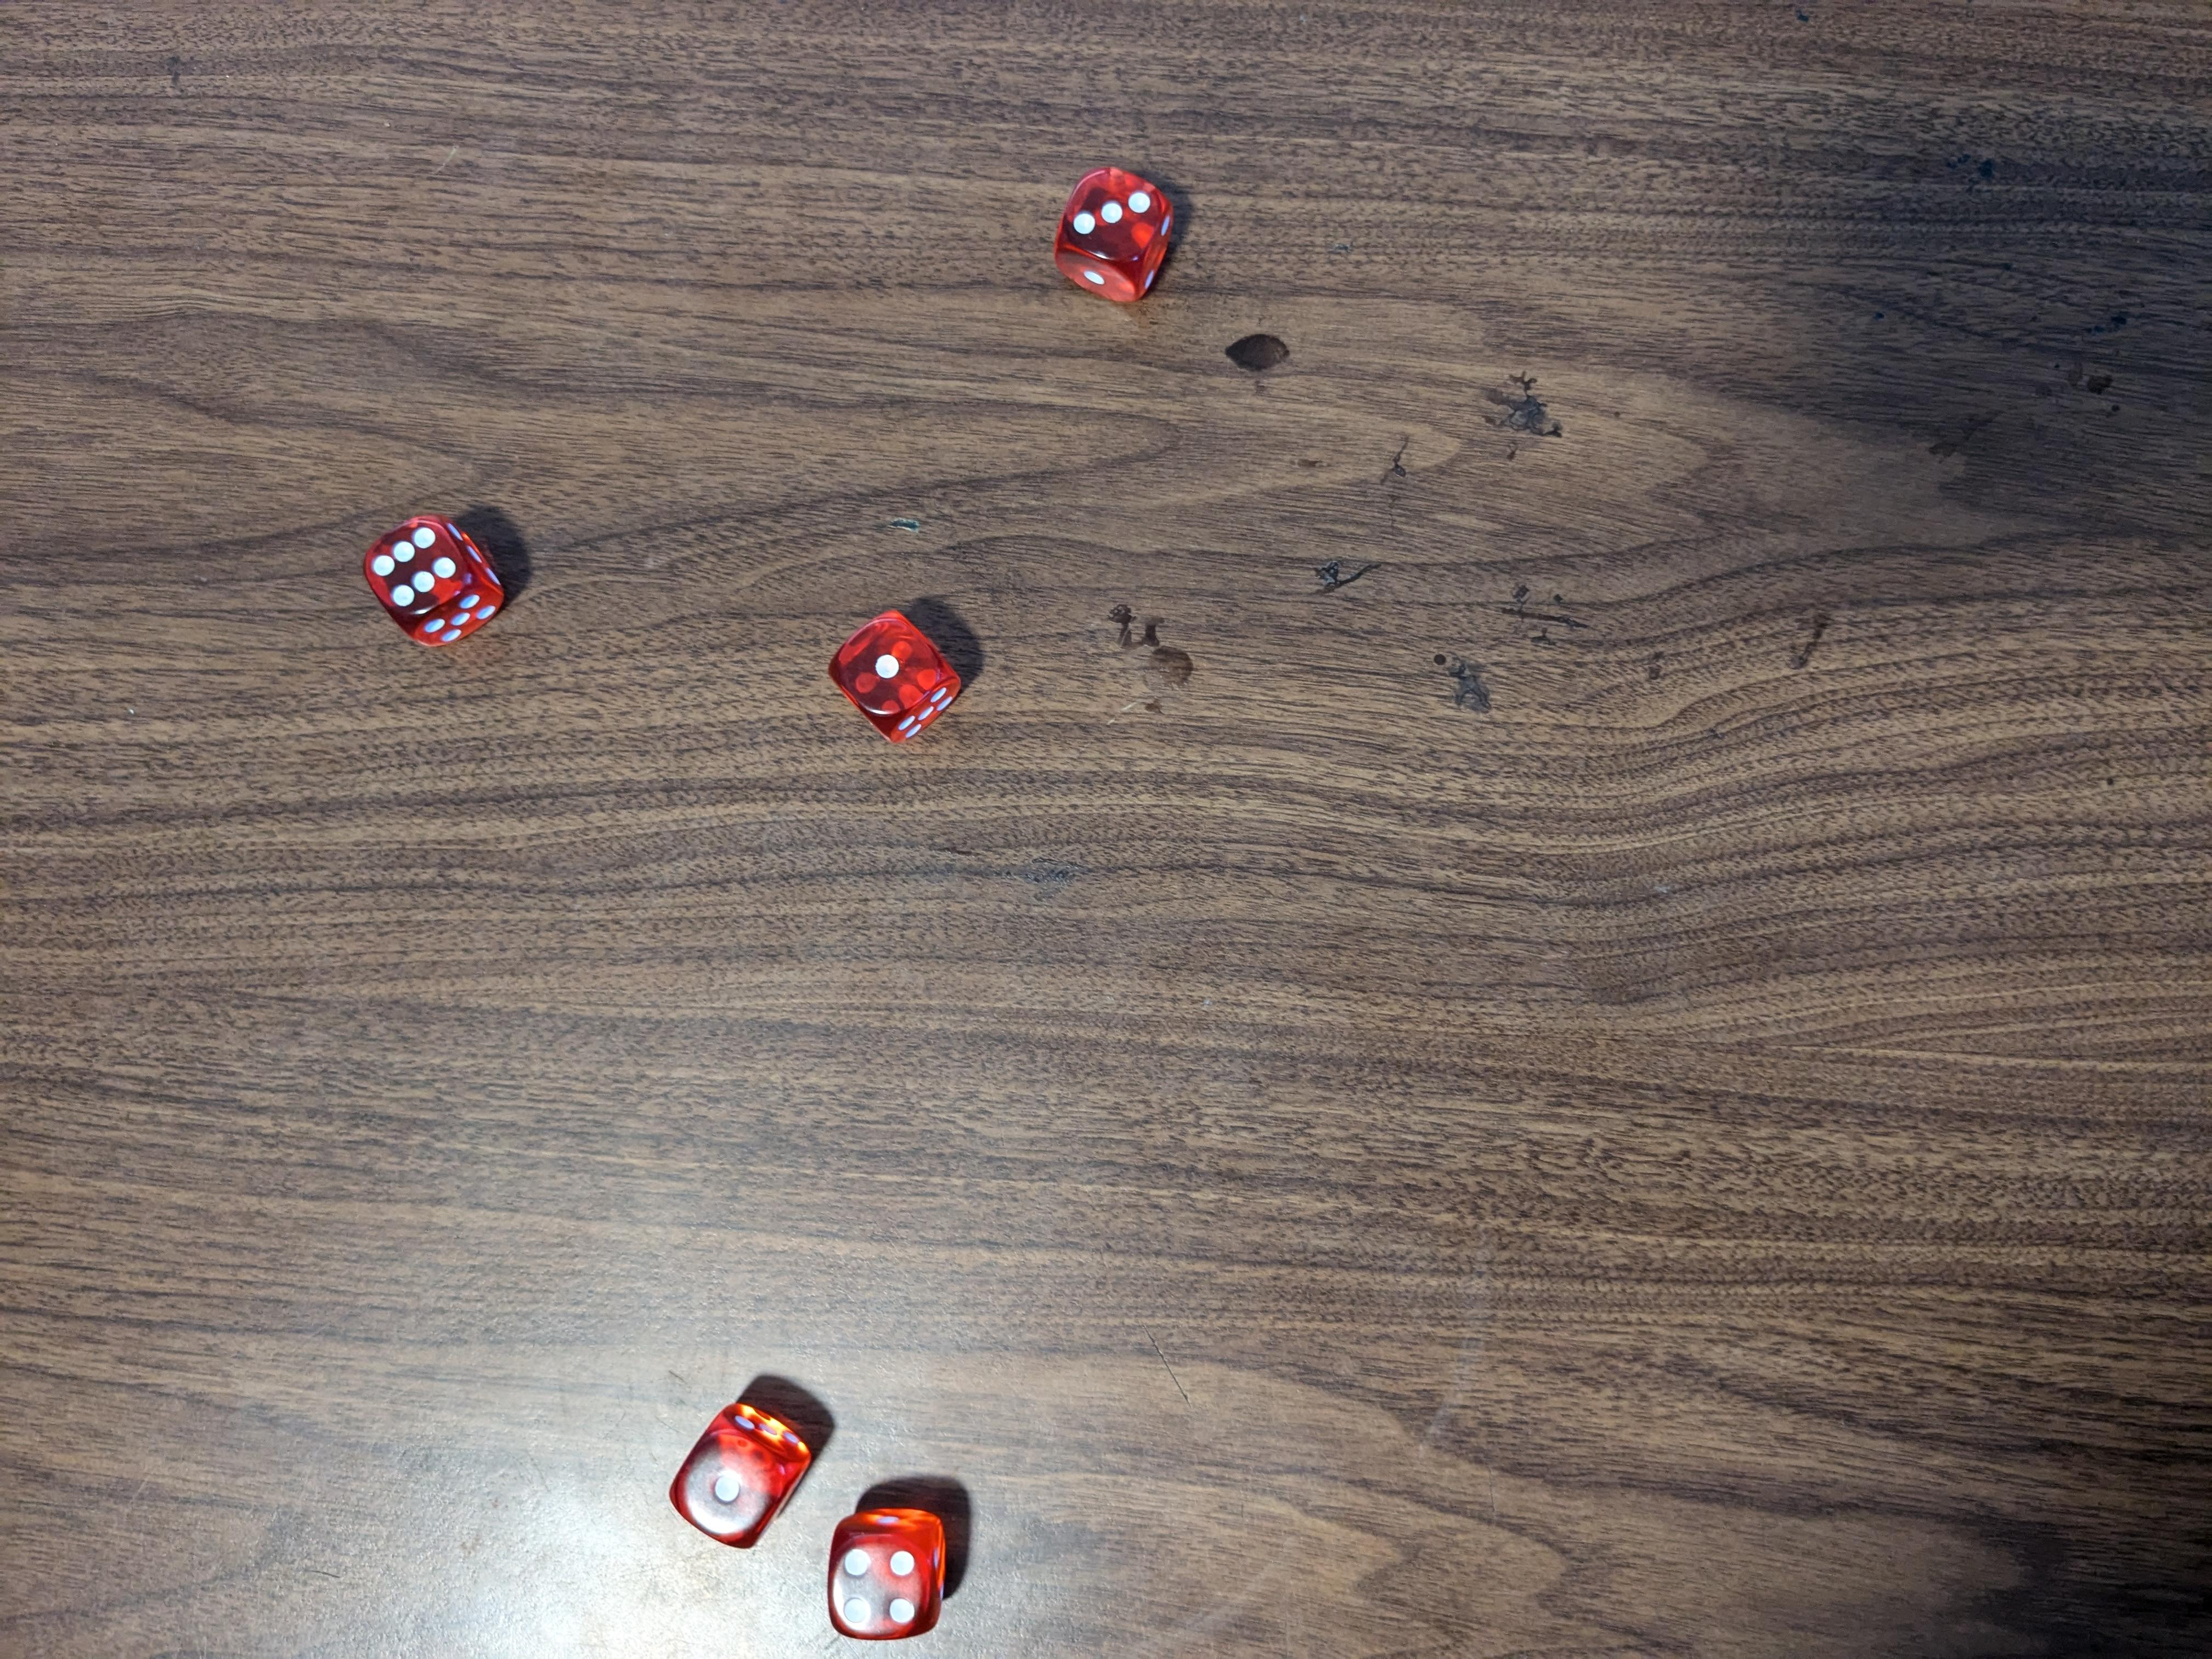four: (824, 1511, 949, 1638)
one: (822, 606, 961, 749), (660, 1408, 798, 1551)
six: (355, 518, 514, 650)
three: (1054, 164, 1179, 303)
